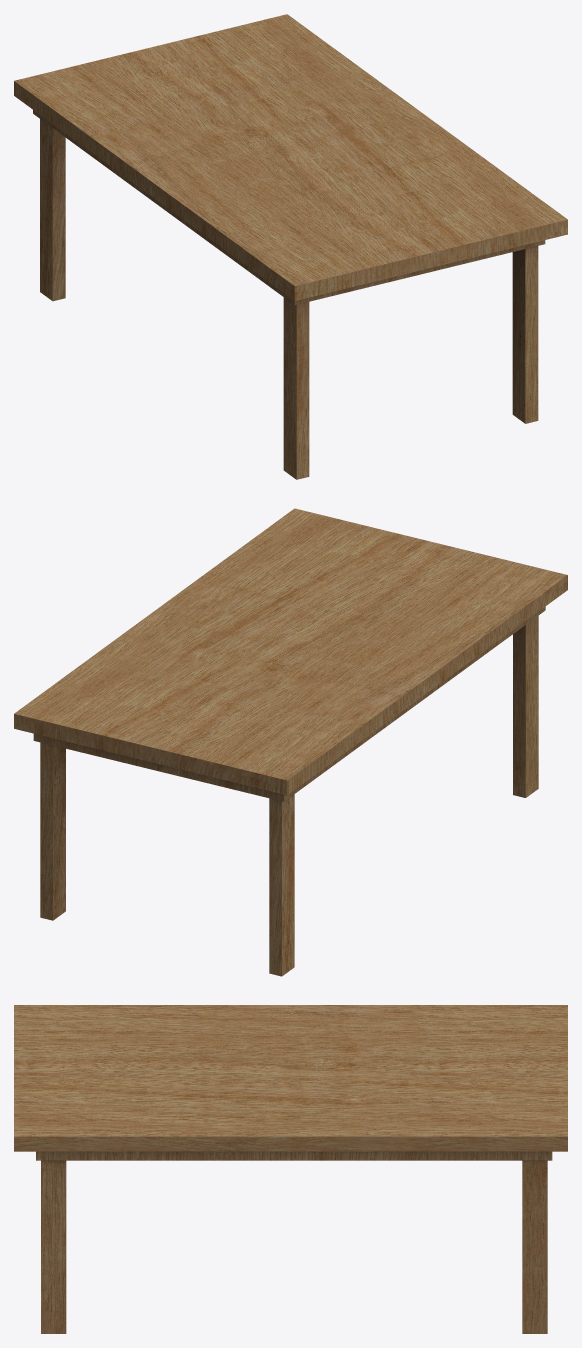
File: table-sample.glb
The picture shows the model from 3 angles, top to bottom: view 1: azimuth 30°, elevation 25°; view 2: azimuth 150°, elevation 25°; view 3: azimuth 270°, elevation 25°; orthographic projection.
Parts seen in each view (by area): view 1: skppH0rwK1; view 2: skppH0rwK1; view 3: skppH0rwK1.
Boxes of the visible parts, <box> form: skppH0rwK1: <box>14,14,567,479</box>; skppH0rwK1: <box>14,508,567,976</box>; skppH0rwK1: <box>14,1005,567,1333</box>.
Size of the model in its own units: 44.27 by 32.11 by 78.74.
1 material, 1 textured.
